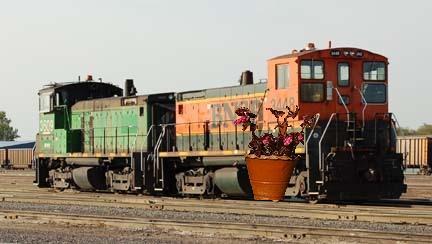tampered: (235, 106, 315, 200)
